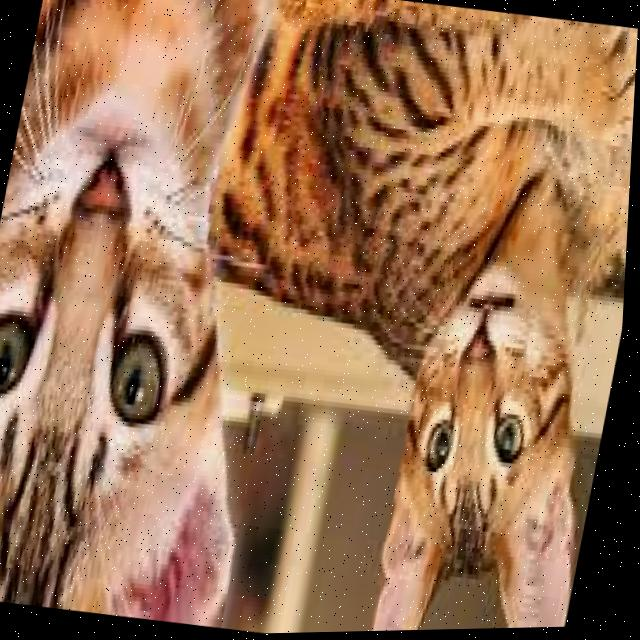Savannah: (158, 0, 640, 637), (0, 0, 343, 634)
